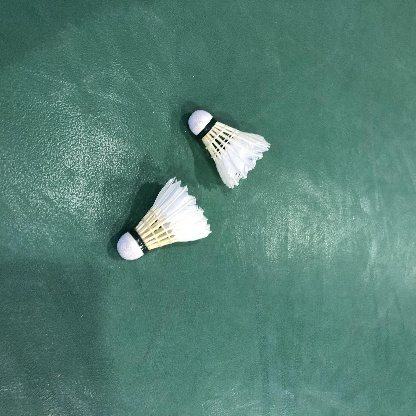ball_single: (117, 176, 212, 260), (188, 110, 271, 189)
